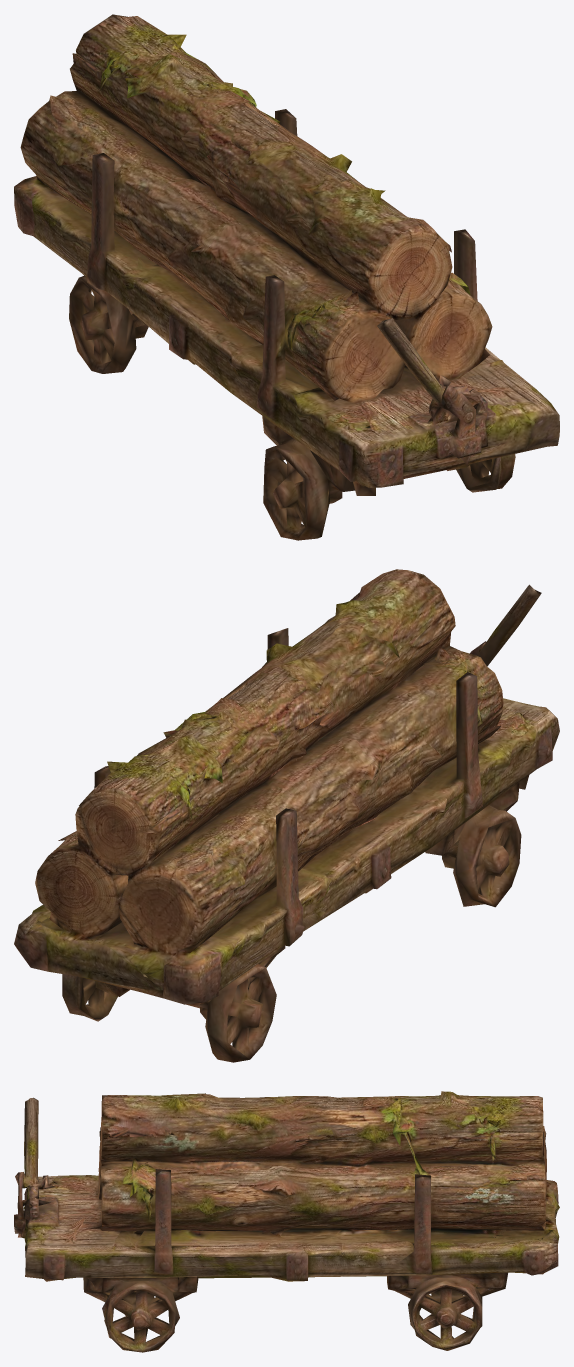
The model's file is trolley.glb.
3 views of the same model, one above another, from view 1: azimuth 30°, elevation 25°; view 2: azimuth 150°, elevation 25°; view 3: azimuth 270°, elevation 25° (orthographic). The views are drawn at different scales.
Visible parts, largest first — view 1: wooden log wagon 3d model; view 2: wooden log wagon 3d model; view 3: wooden log wagon 3d model.
Part boxes in pixels (box(x1,y1,x2,y2)): wooden log wagon 3d model: box(14, 14, 559, 540); wooden log wagon 3d model: box(14, 569, 559, 1062); wooden log wagon 3d model: box(14, 1091, 559, 1352).
Size of the model in its own units: 1.1 by 1.4 by 3.06.
1 material, 1 textured.
